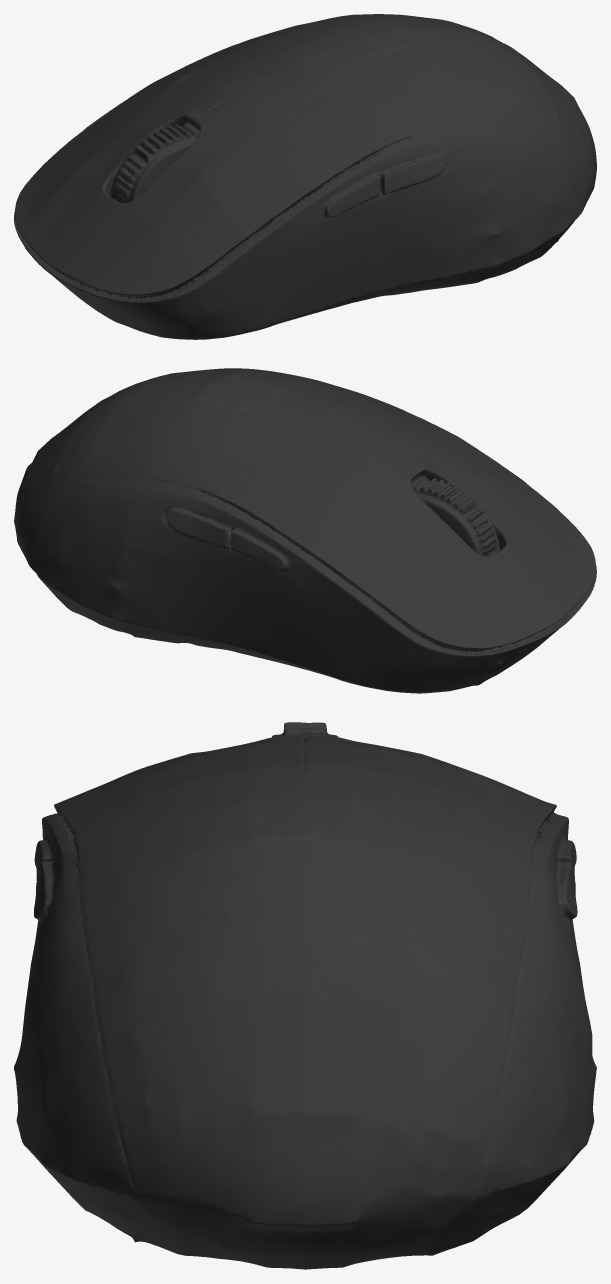
The model's file is mouse.obj.
3 renders of one model, top to bottom at view 1: azimuth 30°, elevation 25°; view 2: azimuth 150°, elevation 25°; view 3: azimuth 270°, elevation 25°, orthographic. The views are drawn at different scales.
Visible parts, largest first — view 1: mouse; view 2: mouse; view 3: mouse.
Part boxes in pixels (left/top/right/bottom): mouse: left=14, top=14, right=596, bottom=339; mouse: left=14, top=368, right=596, bottom=693; mouse: left=14, top=722, right=596, bottom=1269.
Size of the model in its own units: 0.1109 by 0.04 by 0.0651.
Materials: 1 (1 with a texture image).
